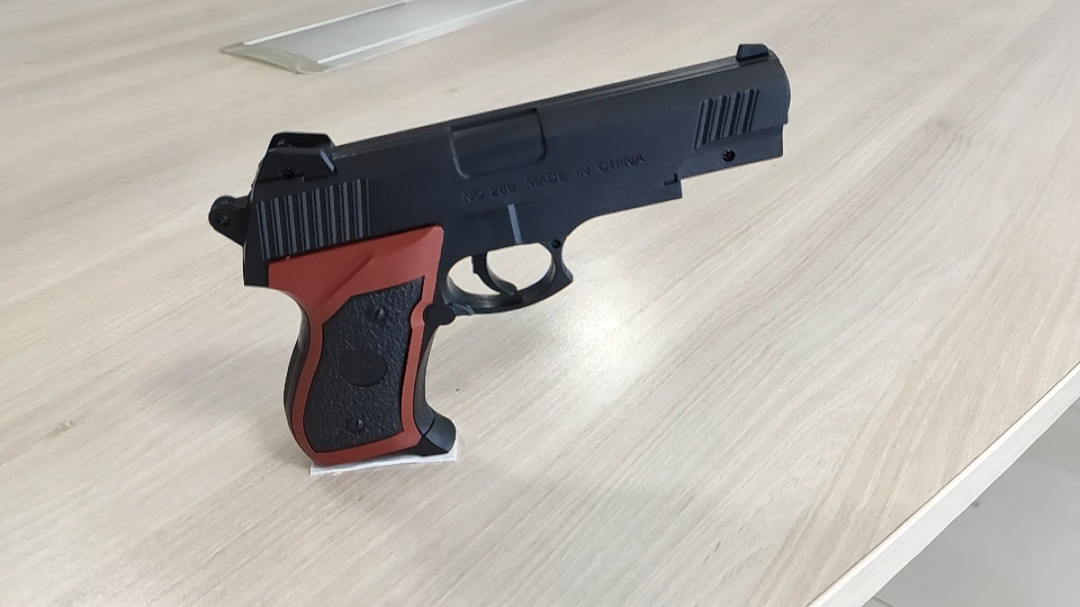gun: (574, 273, 612, 307)
